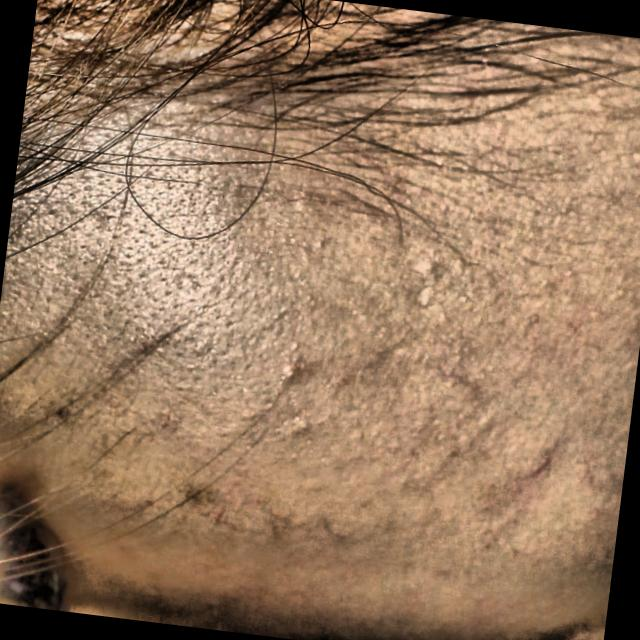whiteheads: (412, 282, 438, 308), (288, 413, 314, 432), (450, 252, 470, 274), (418, 257, 440, 276), (476, 408, 494, 431), (312, 232, 330, 250), (280, 363, 300, 379), (456, 291, 474, 305), (536, 274, 553, 288), (287, 338, 303, 352), (562, 266, 575, 279), (530, 299, 544, 310), (631, 147, 640, 160)
